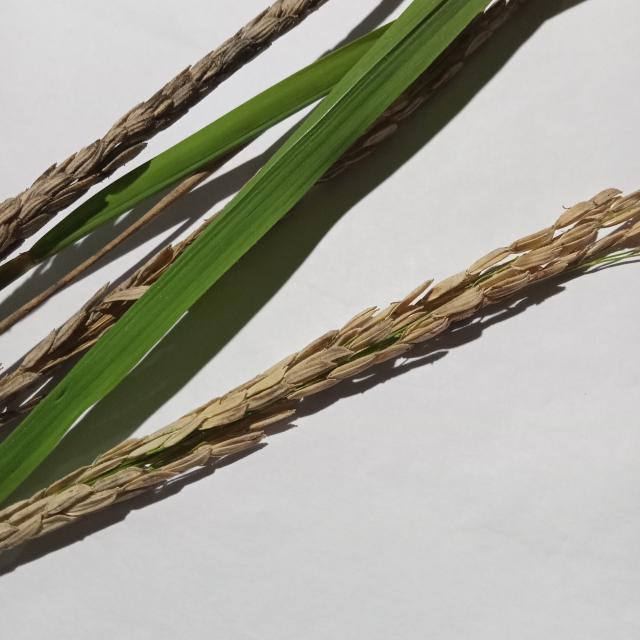Neck_Blast: (0, 188, 640, 557), (0, 0, 336, 240), (0, 238, 196, 448)
